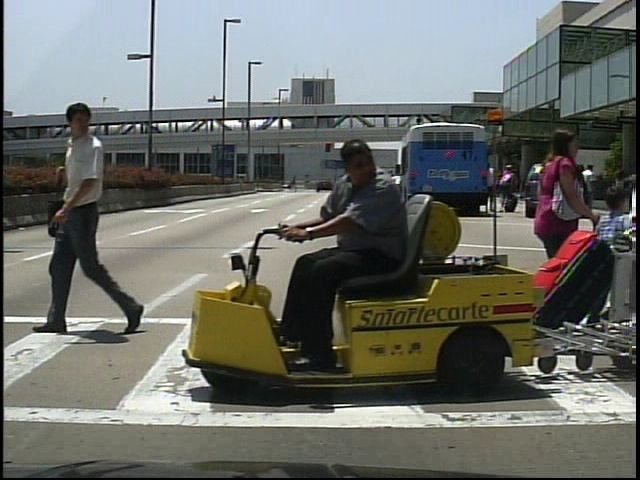person: (272, 134, 419, 373), (34, 99, 146, 333), (525, 121, 589, 354), (579, 180, 629, 326), (480, 162, 500, 217), (580, 162, 601, 214), (501, 164, 520, 218)
